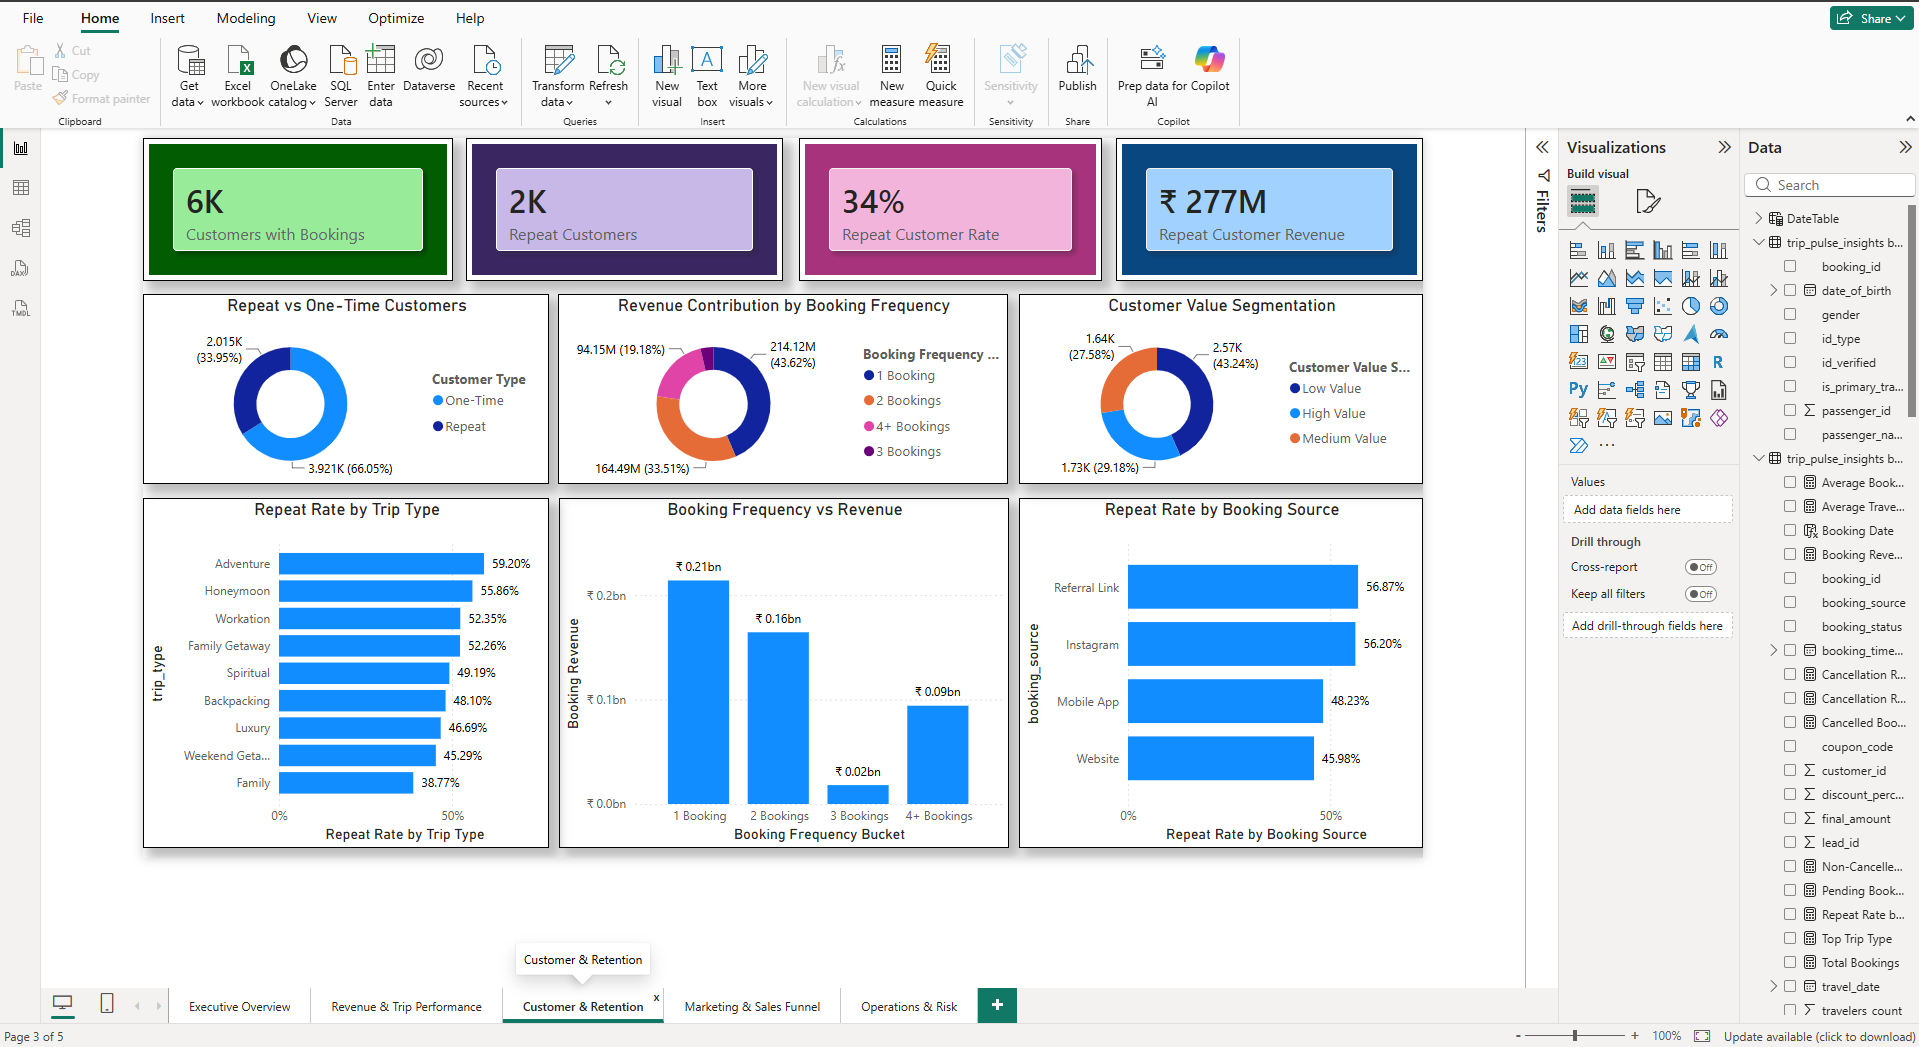

The page's visual inventory and layout, read from the dashboard file:
{"tool":"powerbi","page":{"name":"Customer & Retention","canvas":[1280,720],"ordinal":2},"visuals":[{"type":"cardVisual","fields":{"Data":["trip_pulse_insights customers.Customers with Bookings"]},"box":[0,0,310,143],"z":0},{"type":"cardVisual","fields":{"Data":["trip_pulse_insights customers.Repeat Customers"]},"box":[323,0,317,143],"z":1000},{"type":"cardVisual","fields":{"Data":["trip_pulse_insights customers.Repeat Customer Rate"]},"box":[656,0,303,143],"z":2000},{"type":"cardVisual","fields":{"Data":["trip_pulse_insights customers.Repeat Customer Revenue"]},"box":[973,0,307,143],"z":3000},{"type":"donutChart","title":"Repeat vs One-Time Customers","fields":{"Category":["trip_pulse_insights customers.Customer Type"],"Y":["CountNonNull(trip_pulse_insights customers.customer_id)"]},"box":[0,155.7,405.7,190],"z":4000},{"type":"clusteredColumnChart","title":"Booking Frequency vs Revenue","fields":{"Y":["trip_pulse_insights bookings.Booking Revenue"],"Category":["trip_pulse_insights customers.Booking Frequency Bucket"]},"box":[415.7,360,450,350],"z":5000},{"type":"donutChart","title":"Revenue Contribution by Booking Frequency","fields":{"Category":["trip_pulse_insights customers.Booking Frequency Bucket"],"Y":["trip_pulse_insights bookings.Booking Revenue"]},"box":[415,156,450,190],"z":6000},{"type":"clusteredBarChart","title":"Repeat Rate by Trip Type","fields":{"Category":["trip_pulse_insights trips.trip_type"],"Y":["trip_pulse_insights customers.Repeat Rate by Trip Type"]},"box":[0,360,405.7,350],"z":7000},{"type":"clusteredBarChart","title":"Repeat Rate by Booking Source","fields":{"Category":["trip_pulse_insights bookings.booking_source"],"Y":["trip_pulse_insights bookings.Repeat Rate by Booking Source"]},"box":[875.7,360,404.3,350],"z":8000},{"type":"donutChart","title":"Customer Value Segmentation","fields":{"Category":["trip_pulse_insights customers.Customer Value Segment"],"Y":["Count(trip_pulse_insights bookings.customer_id)"]},"box":[875.7,155.7,404.3,190],"z":9000}]}

Visuals, with their boxes on the page's 1280x720 design canvas (x1, y1, x2, y2). These are canvas units, not pixel positions in the 1919x1047 screenshot, which may show the page scaled, cropped or inside an application window:
cardVisual - trip_pulse_insights customers.Customers with Bookings: Rect(0, 0, 310, 143)
cardVisual - trip_pulse_insights customers.Repeat Customers: Rect(323, 0, 640, 143)
cardVisual - trip_pulse_insights customers.Repeat Customer Rate: Rect(656, 0, 959, 143)
cardVisual - trip_pulse_insights customers.Repeat Customer Revenue: Rect(973, 0, 1280, 143)
"Repeat vs One-Time Customers" donutChart: Rect(0, 156, 406, 346)
"Booking Frequency vs Revenue" clusteredColumnChart: Rect(416, 360, 866, 710)
"Revenue Contribution by Booking Frequency" donutChart: Rect(415, 156, 865, 346)
"Repeat Rate by Trip Type" clusteredBarChart: Rect(0, 360, 406, 710)
"Repeat Rate by Booking Source" clusteredBarChart: Rect(876, 360, 1280, 710)
"Customer Value Segmentation" donutChart: Rect(876, 156, 1280, 346)
